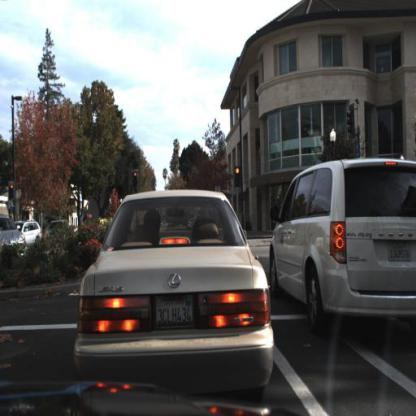car: (74, 186, 272, 387), (270, 149, 416, 346), (1, 215, 27, 257)
trafficLight-Red: (235, 166, 242, 188), (9, 182, 16, 202), (133, 170, 139, 189)
